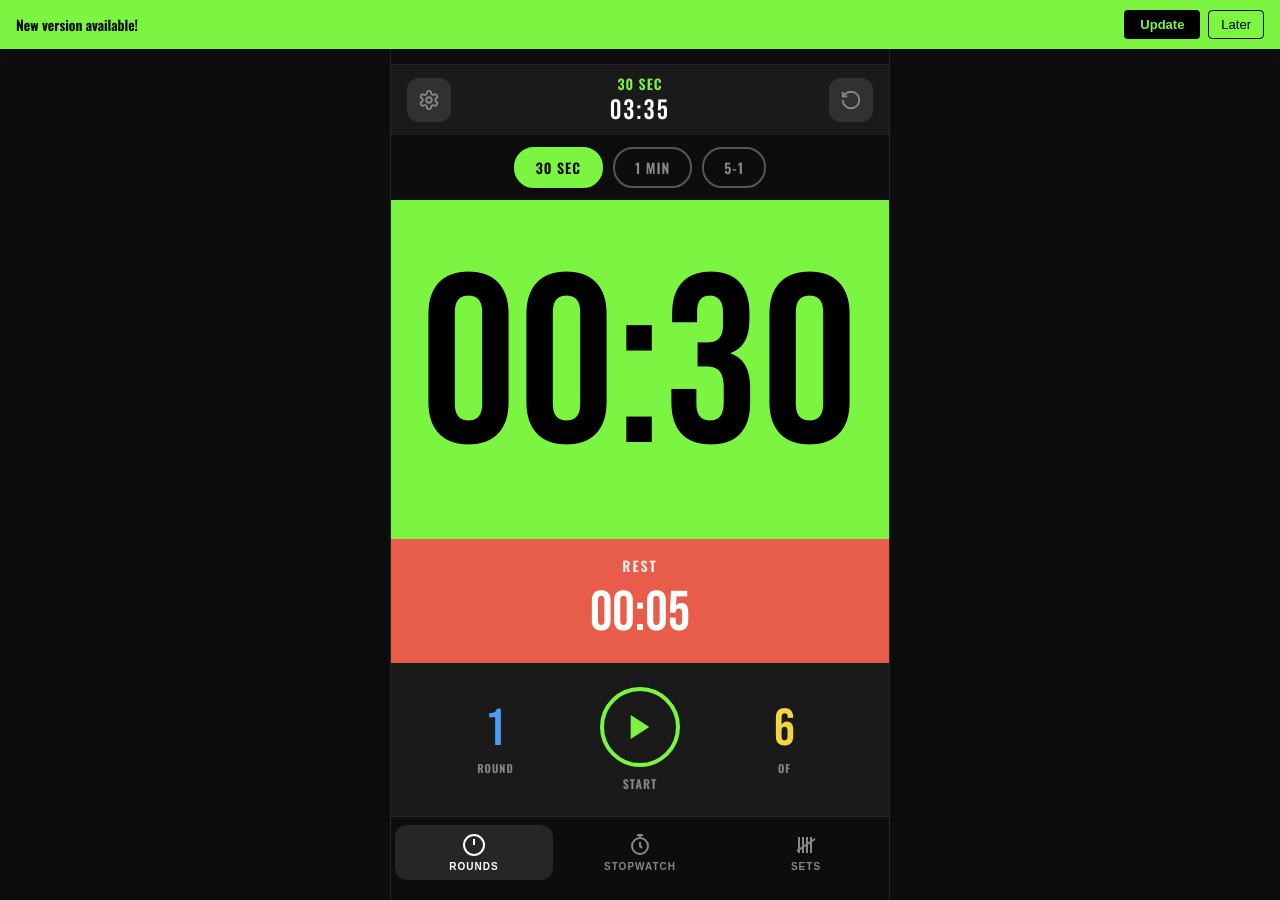
Test: App › should open timer settings modal when timer settings button clicked
The image size is (1280, 900).
Click the button named "Timer Settings": (429, 100) [407,78,451,122]
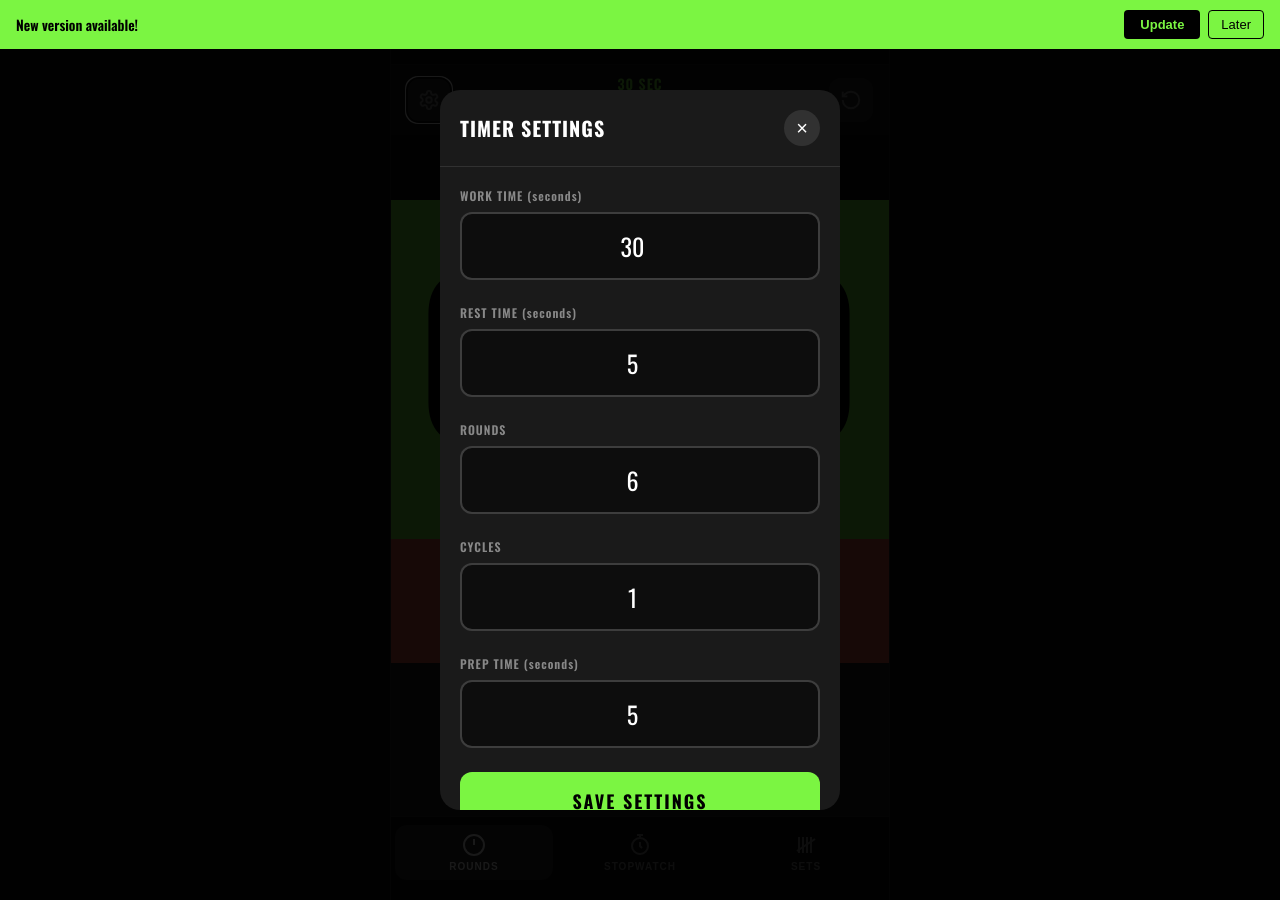
Result: the heading "TIMER SETTINGS" is shown at [460,113,605,143]
Result: the text "WORK TIME (seconds)" is shown at [460,187,582,204]
